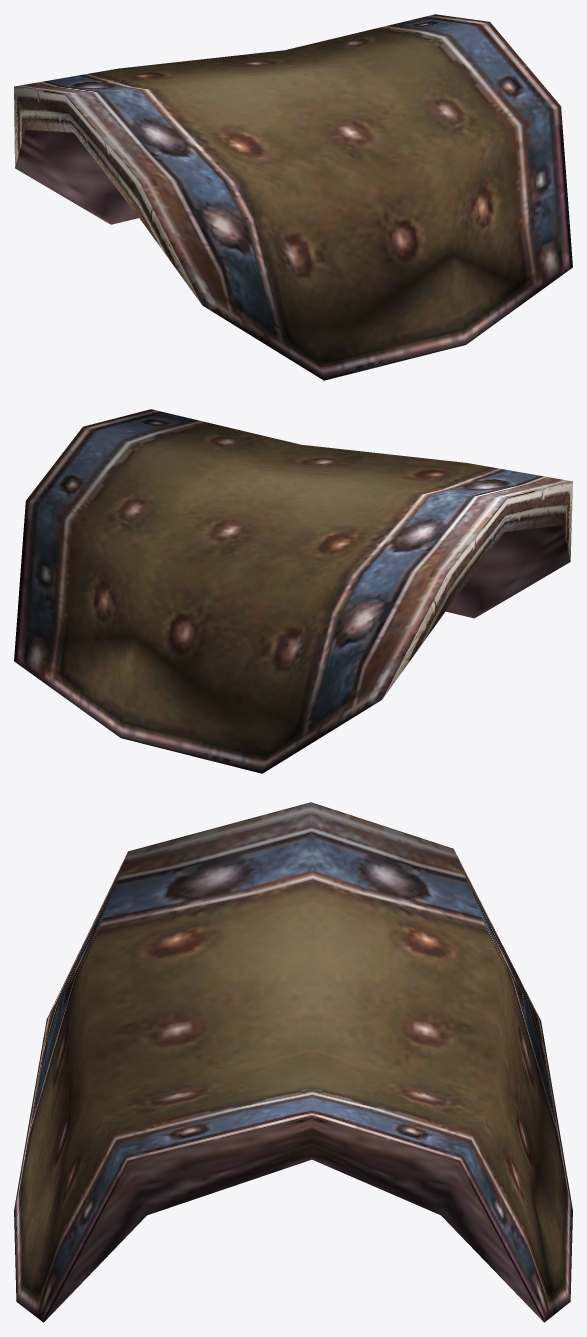
Rendered from light_01_sa.glb.
3 renders of one model, top to bottom at view 1: azimuth 30°, elevation 25°; view 2: azimuth 150°, elevation 25°; view 3: azimuth 270°, elevation 25°, orthographic. The views are drawn at different scales.
Visible parts, largest first — view 1: Light_01_sa; view 2: Light_01_sa; view 3: Light_01_sa.
Boxes of the visible parts, bbox=[...] form: Light_01_sa: bbox=[14, 14, 572, 380]; Light_01_sa: bbox=[14, 409, 572, 773]; Light_01_sa: bbox=[14, 802, 572, 1322].
Size of the model in its own units: 0.1571 by 0.084 by 0.1352.
1 material, 1 textured.
